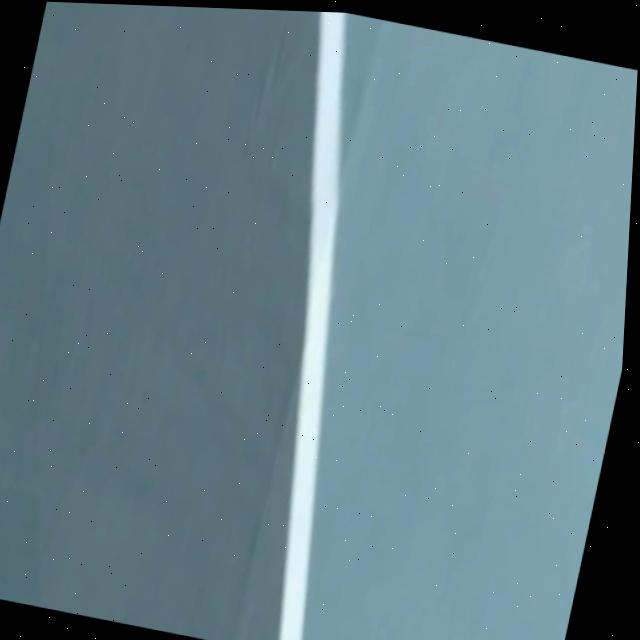left: (280, 12, 346, 640)
